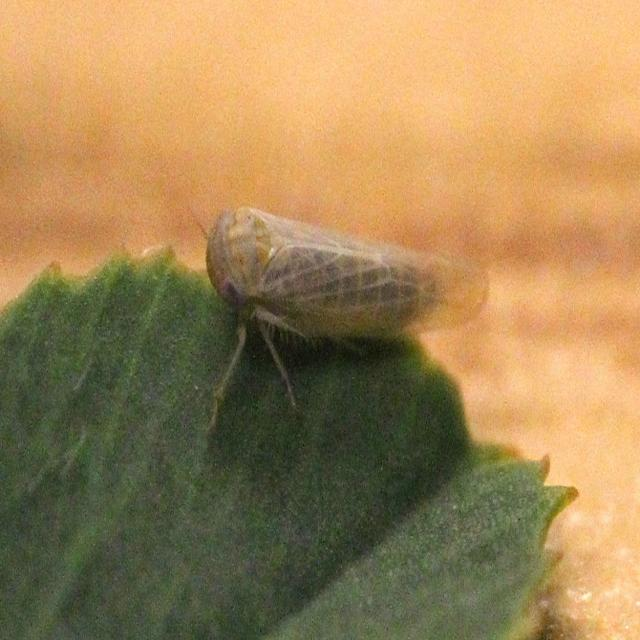Yechan: (182, 186, 494, 410)
